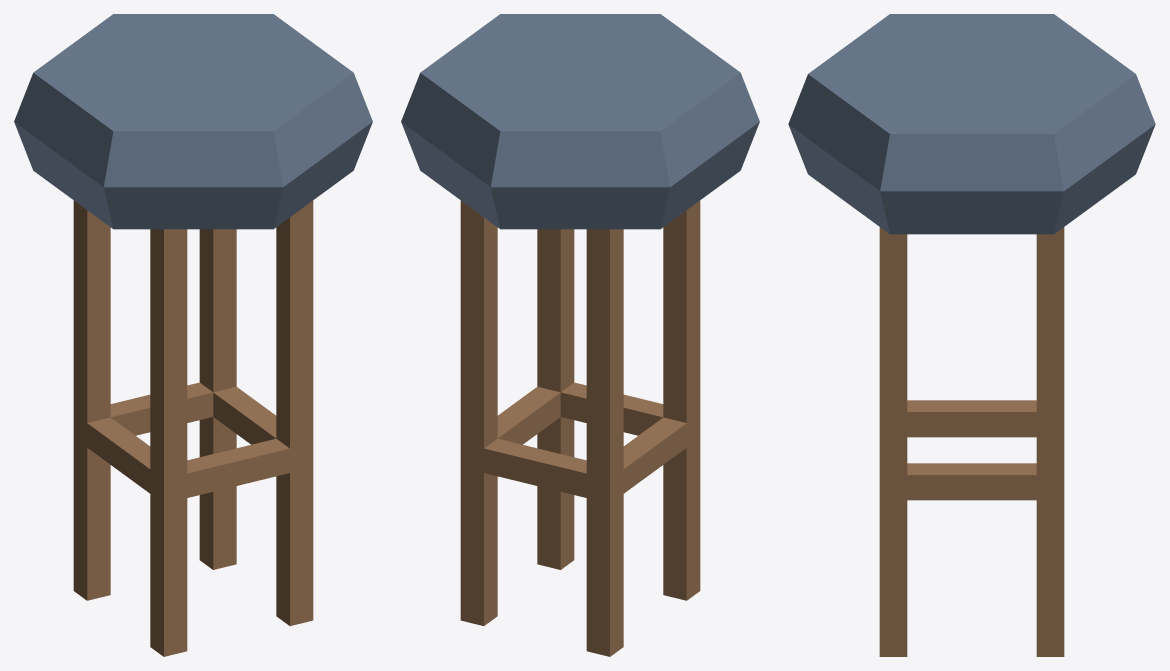
The model's file is stool.dae.
3 views of the same model, side by side, from view 1: azimuth 30°, elevation 25°; view 2: azimuth 150°, elevation 25°; view 3: azimuth 270°, elevation 25° (orthographic). The views are drawn at different scales.
Parts seen in each view (by area): view 1: stool; view 2: stool; view 3: stool.
Part boxes in pixels (box(x1,y1,x2,y2)): stool: box(14, 14, 372, 656); stool: box(401, 14, 759, 656); stool: box(788, 14, 1155, 656).
Size of the model in its own units: 0.3963 by 0.4577 by 0.75.
